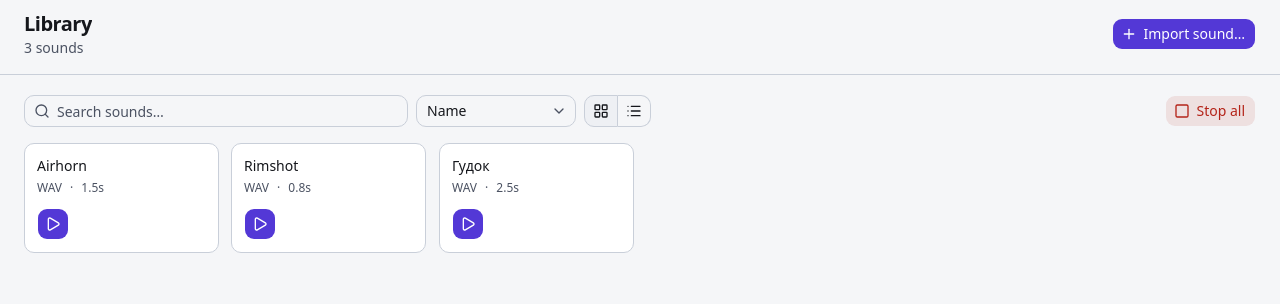
Scenario: library page › plays through the backend and shows the same playing state in the grid and the list
Expected: the list named "Sounds in your library" is shown, left=24, top=143, right=634, bottom=253
Click the button named "Play Rimshot". click: (260, 224)
box: left=244, top=208, right=276, bottom=240
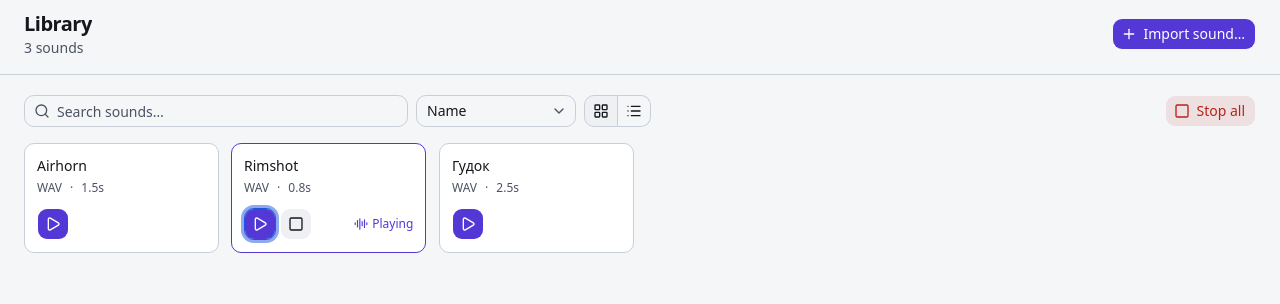
Result: the button named "Stop Rimshot" is shown at left=280, top=208, right=312, bottom=240
Result: the text "Playing" is shown once at left=354, top=216, right=414, bottom=232
Click the button named "List view". click: (634, 111)
box: left=618, top=95, right=651, bottom=127
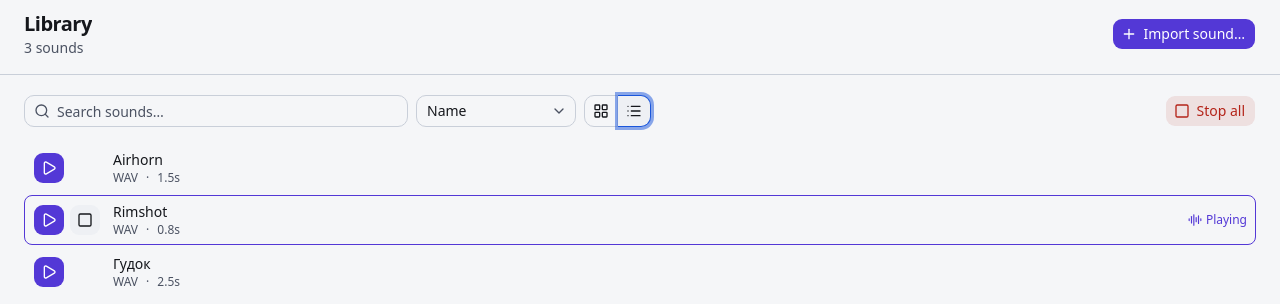
Result: the button named "Stop Rimshot" is shown
Result: the text "Playing" is shown once at left=1188, top=212, right=1247, bottom=228
Click the button named "Stop Rimshot". click: (85, 220)
box: left=69, top=204, right=101, bottom=236
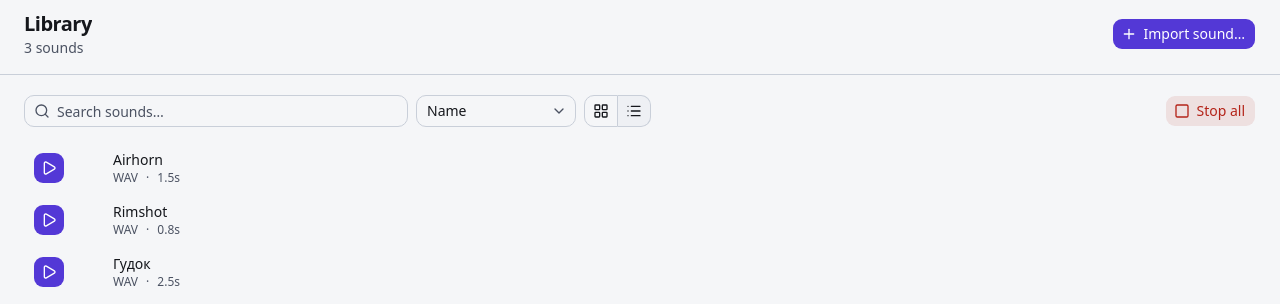
Result: the text "Playing" is gone
